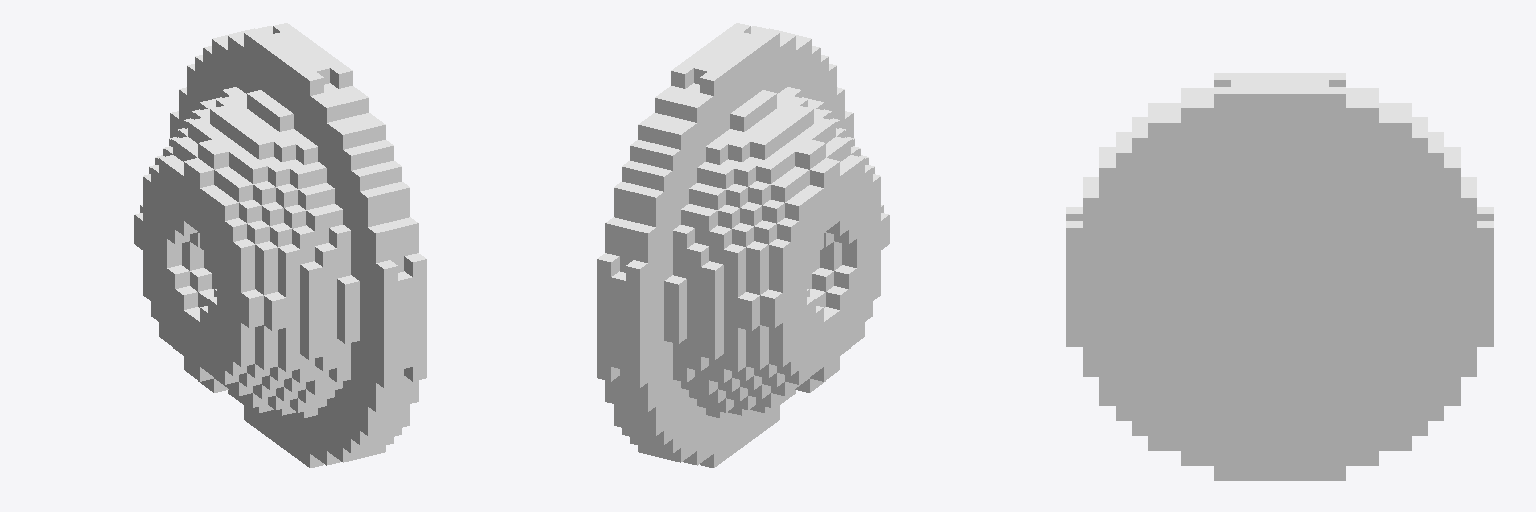
File: factory4.3-34.obj
The picture shows the model from 3 angles: view 1: azimuth 30°, elevation 25°; view 2: azimuth 150°, elevation 25°; view 3: azimuth 270°, elevation 25°; orthographic projection.
Visible parts, largest first — view 1: object 1; view 2: object 1; view 3: object 1.
Boxes of the visible parts, x1,y1,x2,y2 form: object 1: [134, 23, 426, 467]; object 1: [597, 23, 889, 467]; object 1: [1066, 73, 1493, 480].
Bounding box in the file's own units: 0.9 × 2.6 × 2.6.